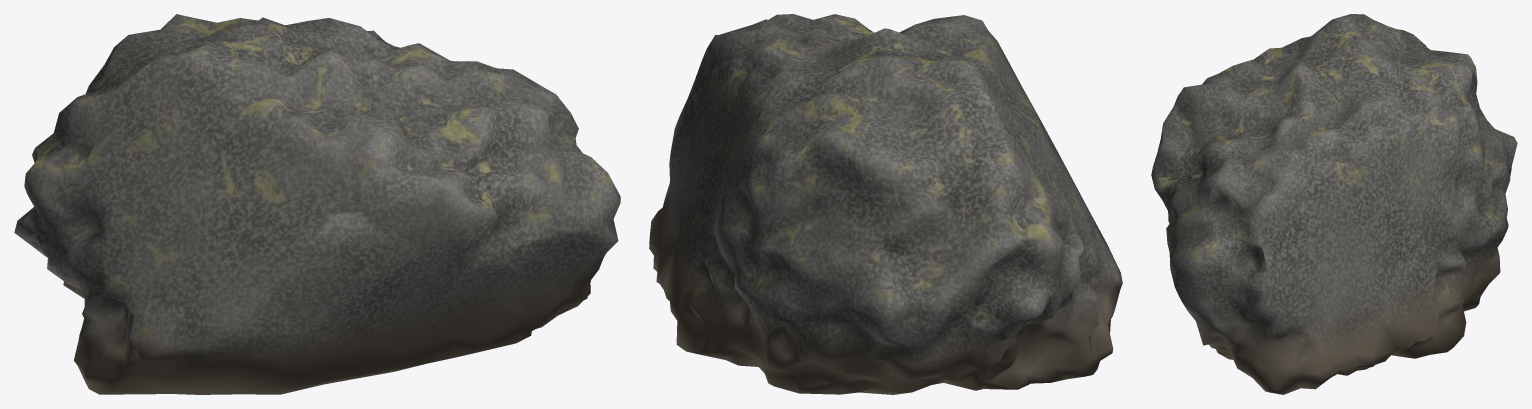
File: rock_d.glb
3 renders of one model, left to right at view 1: azimuth 30°, elevation 25°; view 2: azimuth 150°, elevation 25°; view 3: azimuth 270°, elevation 25°, orthographic. The views are drawn at different scales.
Visible parts, largest first — view 1: rock_d; view 2: rock_d; view 3: rock_d.
Part boxes in pixels (x1,y1,x2,y2): rock_d: (14, 14, 620, 394); rock_d: (649, 14, 1122, 394); rock_d: (1151, 14, 1517, 394).
Size of the model in its own units: 2.37 by 1.44 by 1.92.
Materials: 1 (1 with a texture image).
